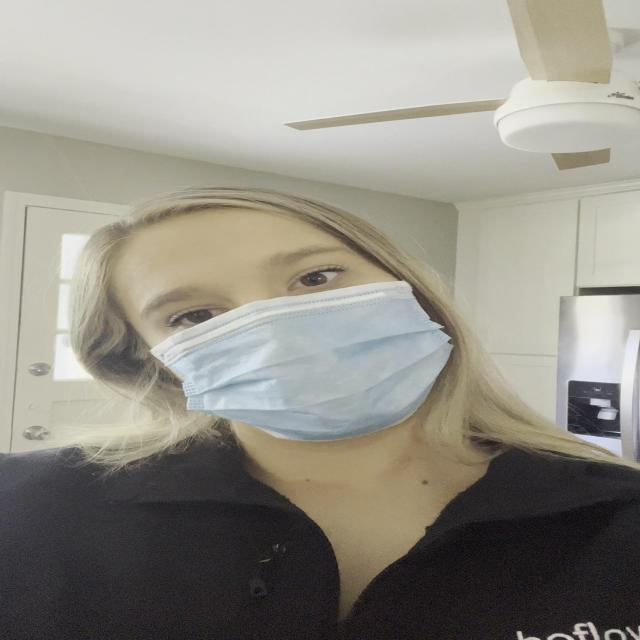no-helmet: (73, 202, 466, 452)
